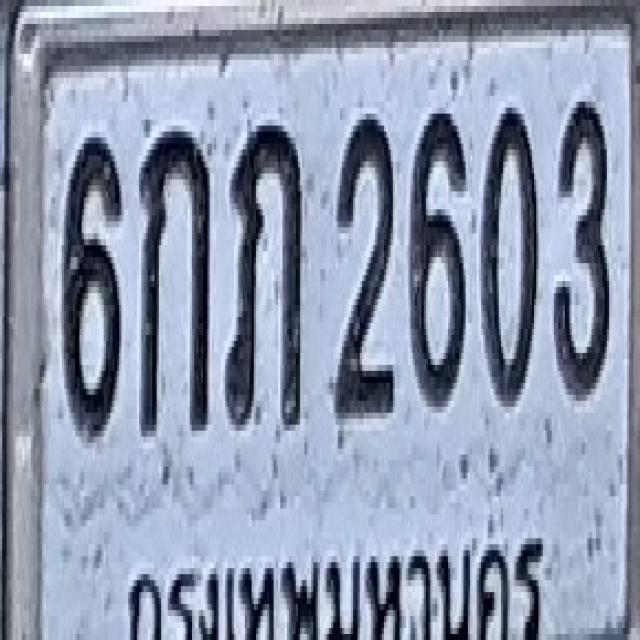0: (480, 99, 537, 404)
2: (334, 110, 394, 422)
3: (554, 96, 609, 394)
6: (62, 132, 121, 436), (410, 108, 466, 406)
A01: (139, 122, 210, 434)
A32: (224, 120, 303, 430)
